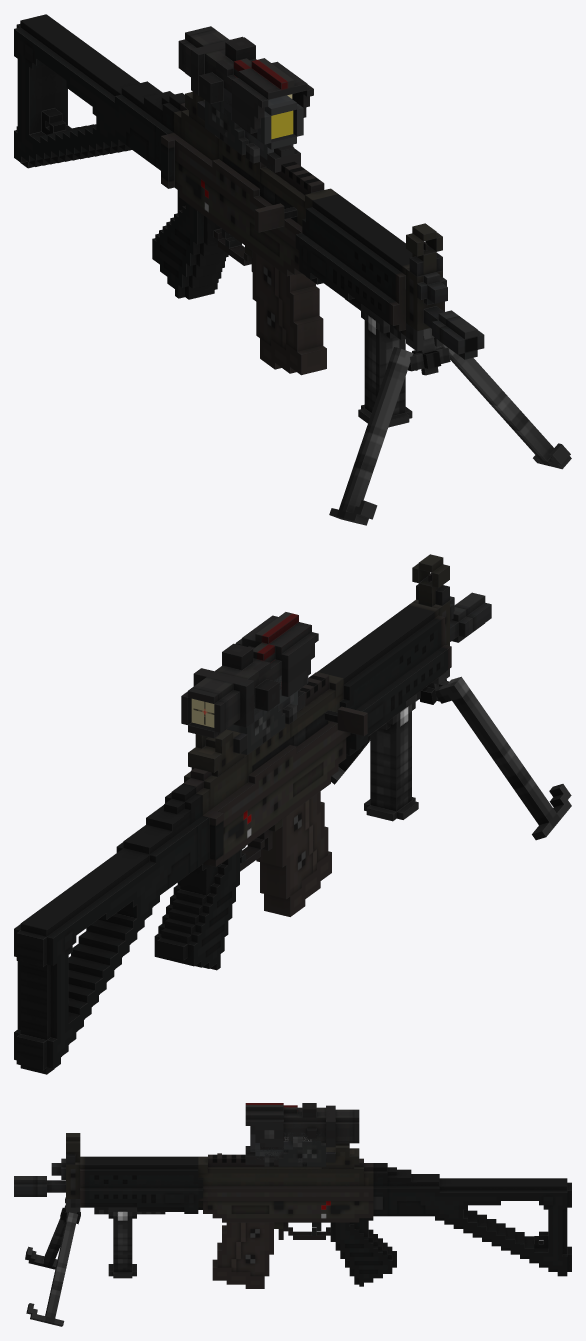
3 views of the same model, one above another, from view 1: azimuth 30°, elevation 25°; view 2: azimuth 150°, elevation 25°; view 3: azimuth 270°, elevation 25° (orthographic). The views are drawn at different scales.
Parts seen in each view (by area): view 1: SG552, SCOPE_ACOG, SG552_CLIP, DIPOD1_LEG1, GRIP1, DIPOD1_LEG2, SCOPE_TASCO, SG552_SCOPE, SCOPE_EOTECH, DIPOD1_BODY2, SG552_BOLT; view 2: SG552, SCOPE_ACOG, SG552_CLIP, DIPOD1_LEG1, GRIP1, SG552_SCOPE, SCOPE_EOTECH, SG552_BOLT, SCOPE_TASCO; view 3: SG552, SCOPE_ACOG, SG552_CLIP, GRIP1, DIPOD1_LEG2, SG552_SCOPE, SCOPE_EOTECH, SCOPE_TASCO, DIPOD1_LEG1.
Part boxes in pixels (box(x1,y1,x2,y2)): SG552: box(14, 14, 484, 359); SCOPE_ACOG: box(178, 26, 313, 172); SG552_CLIP: box(252, 251, 326, 375); DIPOD1_LEG1: box(329, 347, 417, 525); GRIP1: box(345, 299, 412, 427); DIPOD1_LEG2: box(435, 344, 571, 469); SCOPE_TASCO: box(208, 88, 303, 163); SG552_SCOPE: box(185, 91, 442, 276); SCOPE_EOTECH: box(205, 100, 293, 159); DIPOD1_BODY2: box(408, 328, 450, 375); SG552_BOLT: box(254, 203, 297, 232); SG552: box(14, 592, 491, 1074); SCOPE_ACOG: box(181, 612, 318, 738); SG552_CLIP: box(256, 791, 331, 916); DIPOD1_LEG1: box(435, 676, 571, 840); GRIP1: box(364, 691, 420, 821); SG552_SCOPE: box(188, 554, 449, 776); SCOPE_EOTECH: box(227, 691, 297, 754); SG552_BOLT: box(324, 706, 367, 736); SCOPE_TASCO: box(251, 675, 308, 743); SG552: box(14, 1154, 571, 1286); SCOPE_ACOG: box(245, 1103, 359, 1164); SG552_CLIP: box(212, 1222, 273, 1288); GRIP1: box(94, 1207, 165, 1278); DIPOD1_LEG2: box(26, 1212, 77, 1326); SG552_SCOPE: box(66, 1133, 359, 1168); SCOPE_EOTECH: box(255, 1136, 325, 1166); SCOPE_TASCO: box(250, 1132, 320, 1166); DIPOD1_LEG1: box(25, 1204, 65, 1269).
Bounding box in the file's own units: 0.3321 × 0.4467 × 1.16.
9 materials, 9 textured.
